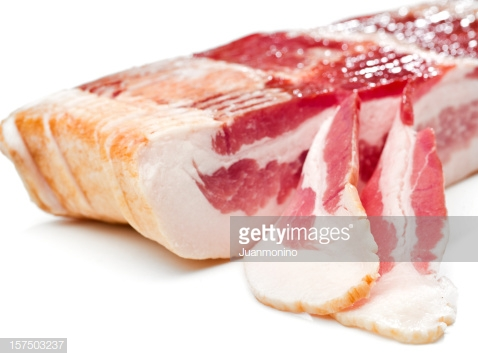bacon: (46, 7, 478, 331)
